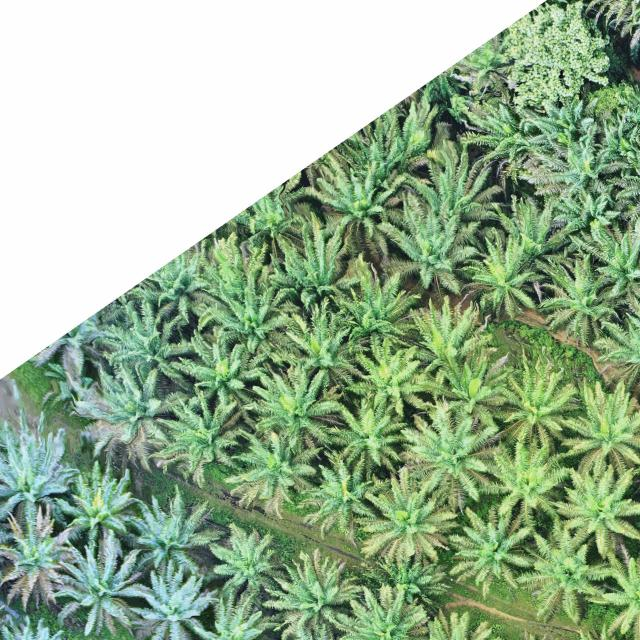Tree: (75, 356, 184, 470), (374, 187, 484, 299), (514, 519, 620, 631), (0, 400, 83, 539), (500, 0, 613, 102), (398, 406, 504, 514), (51, 526, 148, 636), (226, 424, 327, 523), (201, 268, 302, 366), (397, 137, 506, 227), (353, 478, 459, 569), (146, 388, 244, 485), (124, 483, 228, 574), (258, 550, 361, 640), (246, 357, 346, 449), (477, 434, 578, 525), (556, 465, 640, 571), (0, 500, 79, 612), (492, 350, 578, 451), (346, 335, 450, 418), (283, 293, 371, 389), (458, 225, 542, 323), (538, 130, 632, 217), (557, 380, 640, 478), (332, 263, 422, 352), (107, 306, 198, 394), (270, 220, 362, 307), (401, 293, 496, 377), (457, 100, 552, 184), (299, 454, 383, 547), (536, 254, 623, 343), (447, 502, 536, 588), (132, 556, 220, 640), (491, 193, 582, 272), (58, 456, 138, 545), (327, 394, 407, 481), (172, 332, 268, 404), (568, 212, 640, 301), (525, 88, 606, 164), (206, 524, 279, 606), (436, 348, 522, 415), (590, 532, 640, 640), (592, 295, 640, 407), (331, 586, 426, 640), (199, 597, 267, 640), (614, 78, 640, 150)
